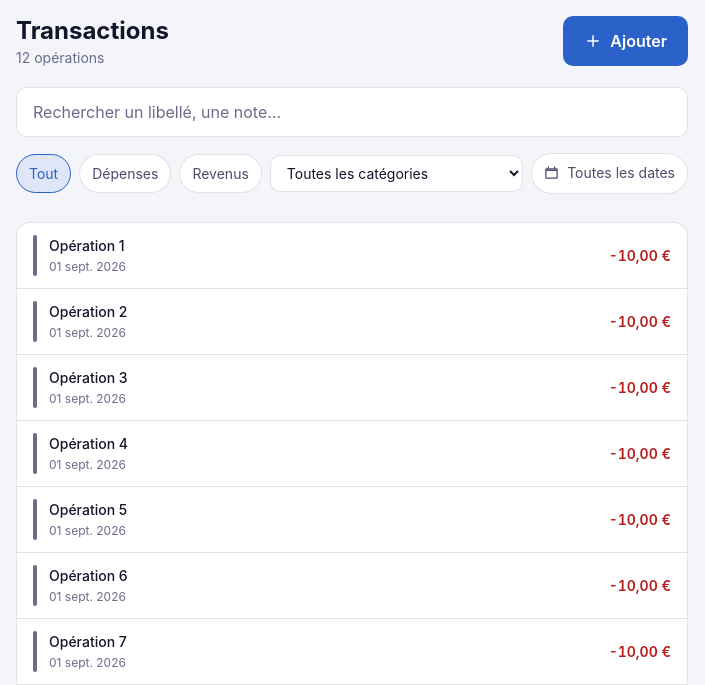
it: TransactionsPage — recherche › message vide dédié quand rien ne correspond, et retour à la liste en vidant le champ
The width and height of the screenshot is (705, 685).
Type "introuvable" into the search field with placeholder "Rechercher un libellé, une note…" at (352, 112), box [16,86,688,136]
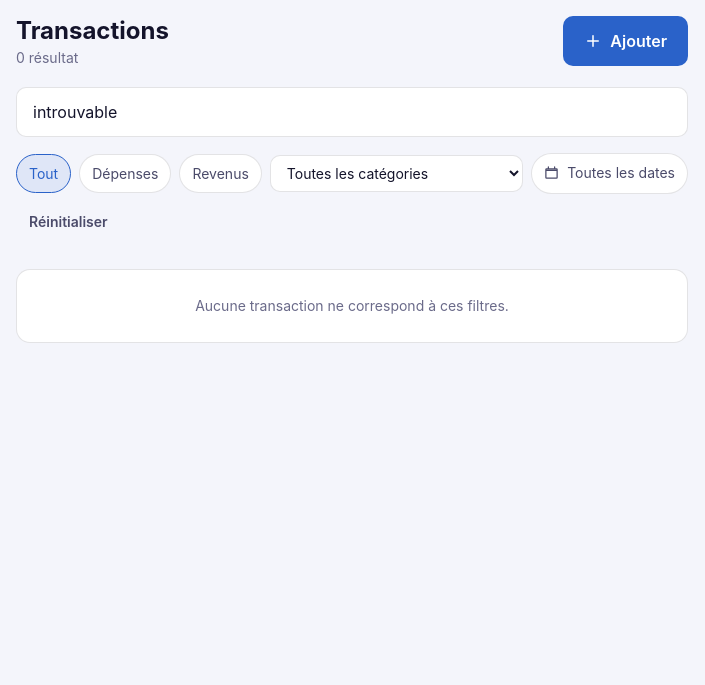
Expected: the text "Aucune transaction ne correspond" is shown, [195,296,509,314]
Clear the search field at (352, 112), box [16,86,688,136]
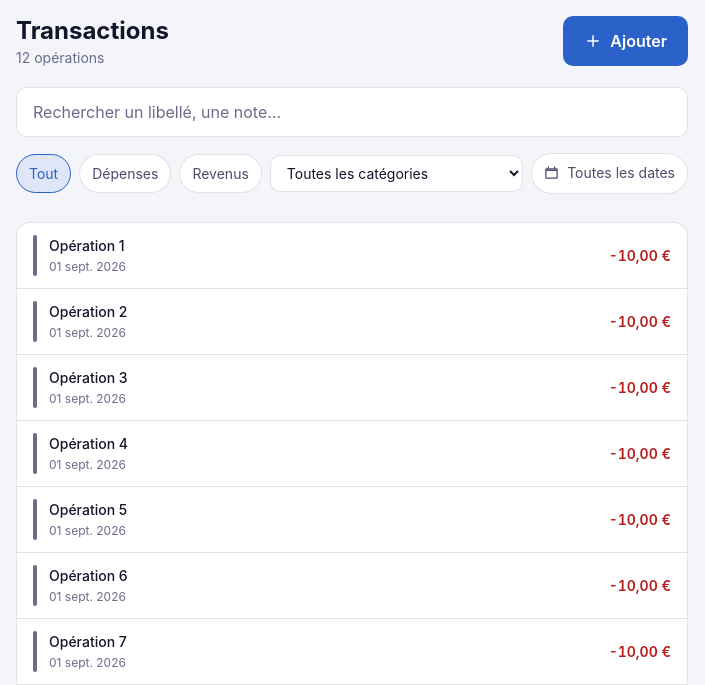
Expected: the text "12 opérations" is shown, [16,49,104,66]
